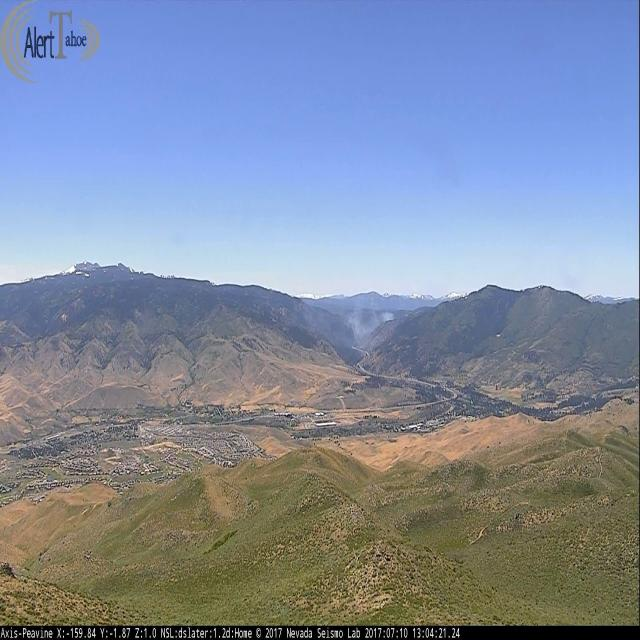smoke: (345, 308, 397, 352)
